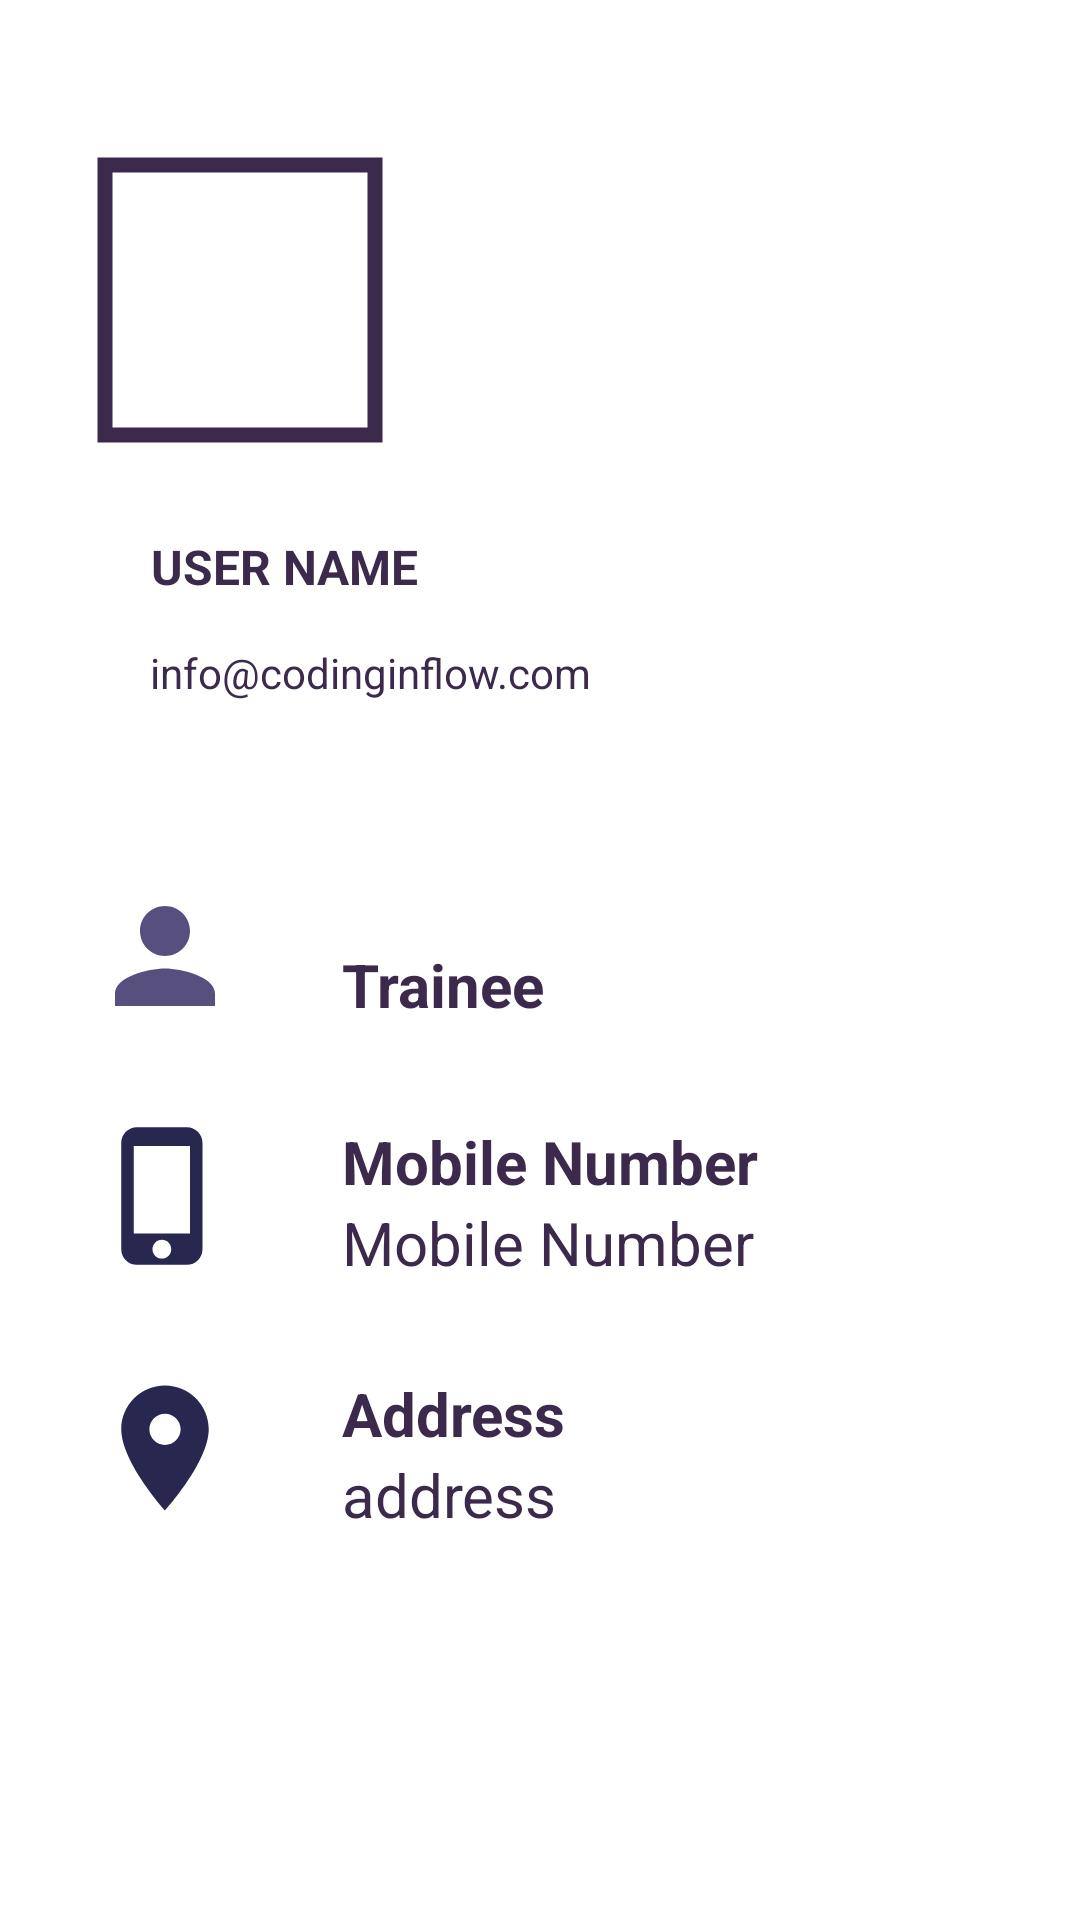

Icons on this 1080x1920 Android screen, each with the point to tap as (x=x, y=y):
person: (x=165, y=956)
phon: (x=162, y=1196)
